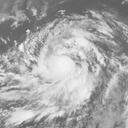cyclone: (36, 49, 88, 96)
